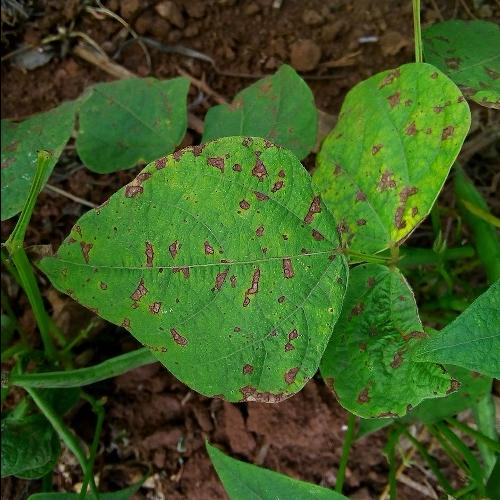hawar: (90, 98, 322, 414)
